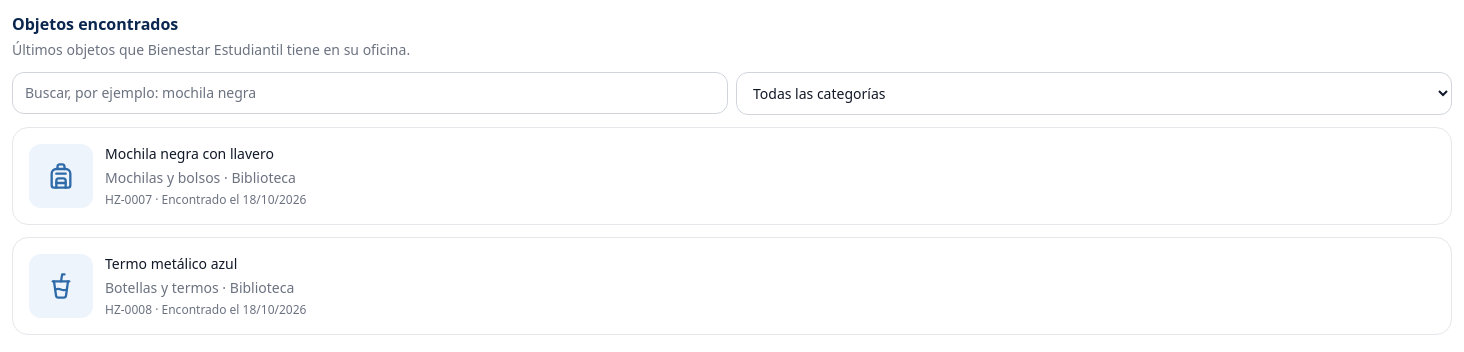
it: Buscar en los objetos publicados › avisa cuando ningún objeto coincide con la búsqueda
The width and height of the screenshot is (1464, 352).
Type "paraguas" into the search field named "Buscar objetos" at (370, 93), box top-left (12, 72), bottom-right (728, 114)
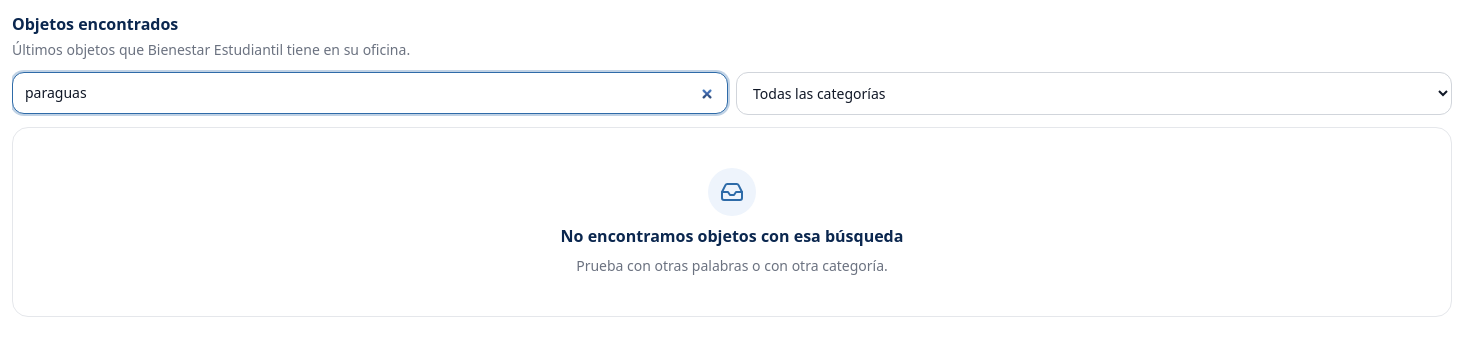
Result: the heading "No encontramos objetos con esa búsqueda" is shown at top-left (561, 224), bottom-right (903, 248)
